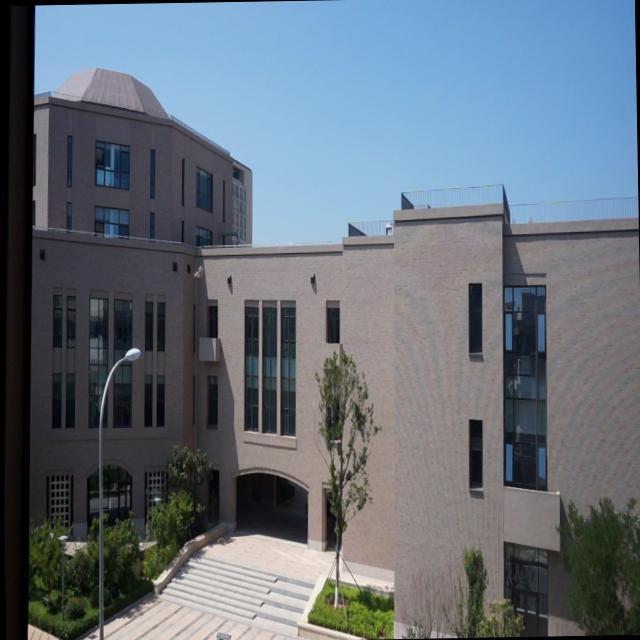drone: (190, 260, 207, 282)
